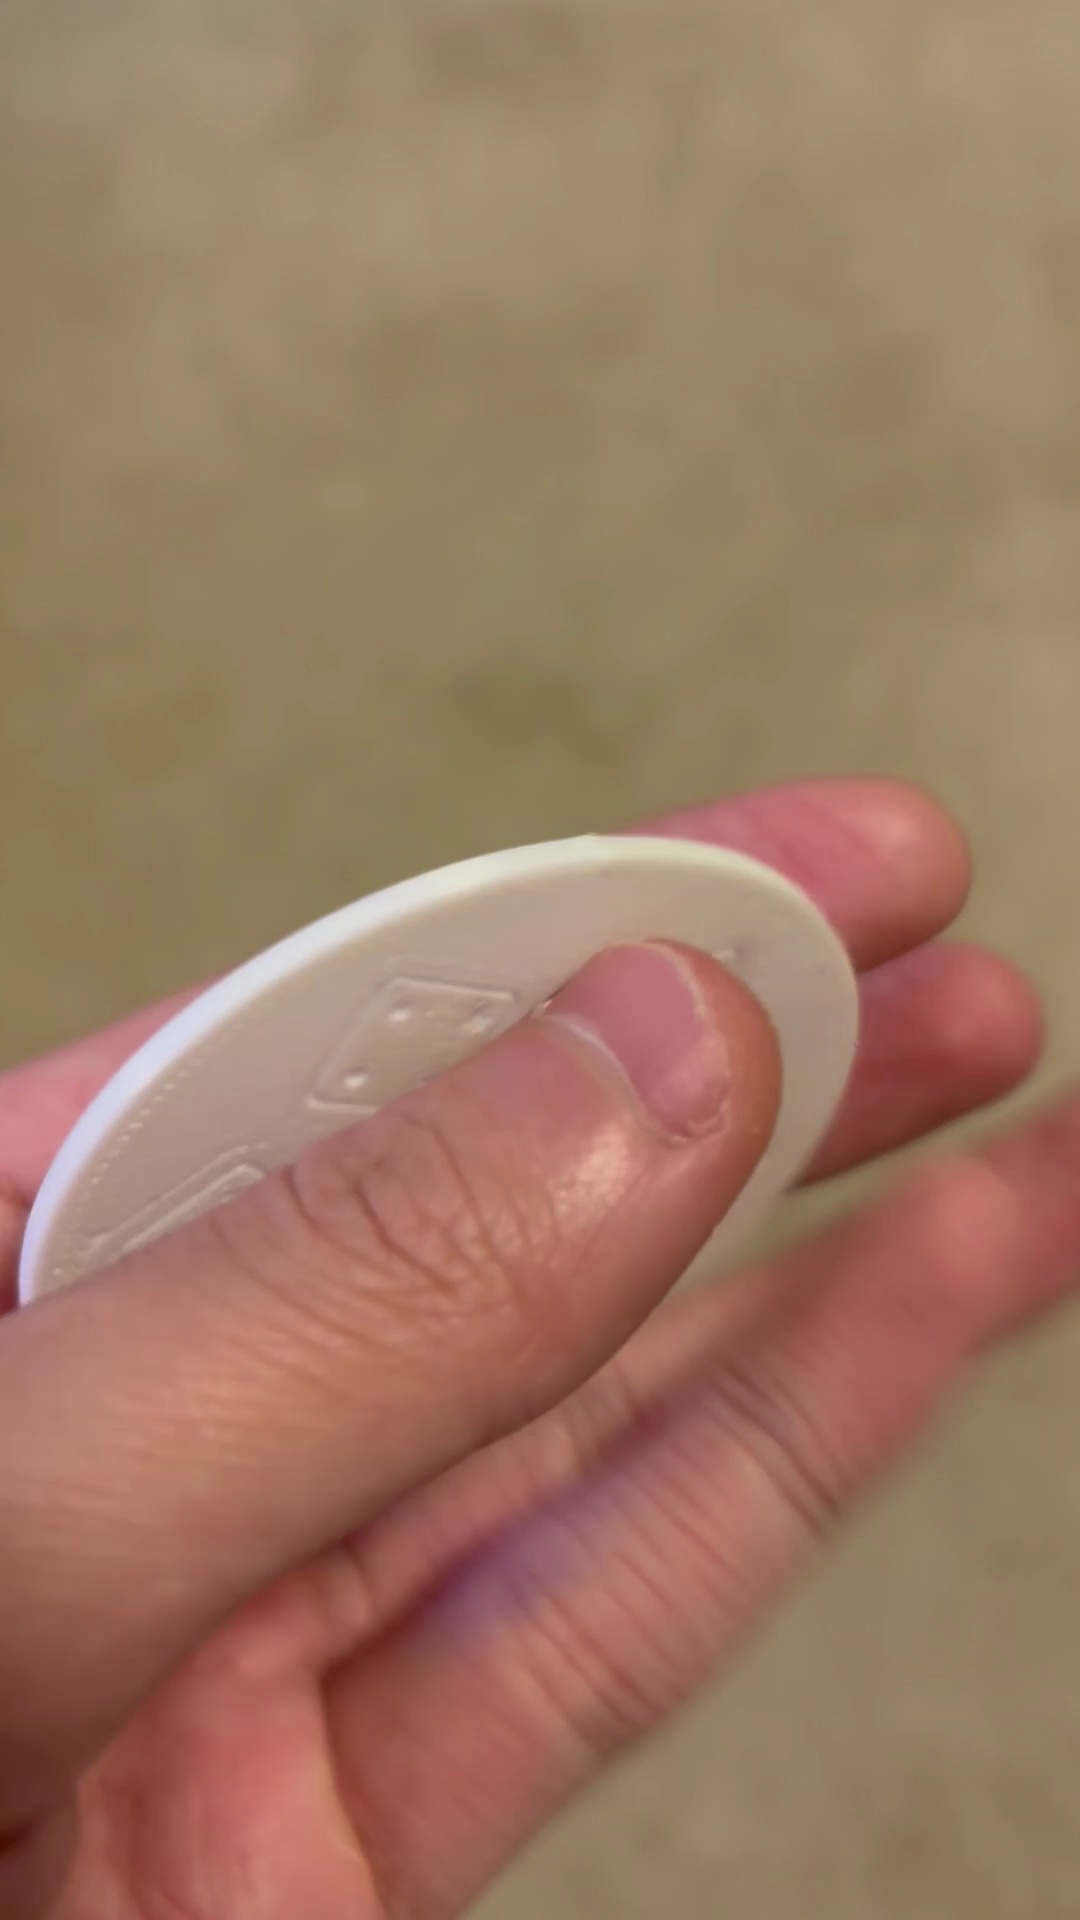Part1: (18, 836, 857, 1304)
